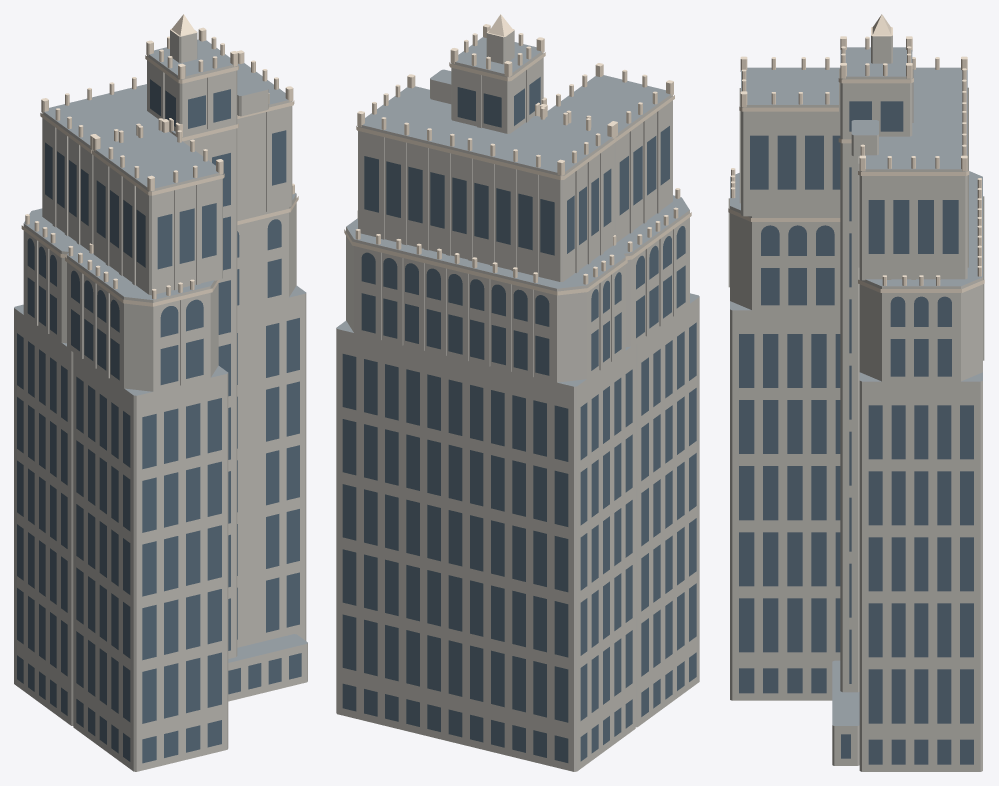
File: sf-pacific-telephone.glb
3 renders of one model, left to right at view 1: azimuth 30°, elevation 25°; view 2: azimuth 150°, elevation 25°; view 3: azimuth 270°, elevation 25°, orthographic. The views are drawn at different scales.
Visible parts, largest first — view 1: Pacific Telephone Building; view 2: Pacific Telephone Building; view 3: Pacific Telephone Building.
Boxes of the visible parts, <box> form: Pacific Telephone Building: <box>14,14,307,771</box>; Pacific Telephone Building: <box>336,14,699,771</box>; Pacific Telephone Building: <box>728,14,984,771</box>.
Size of the model in its own units: 51.6 by 140 by 46.4.
